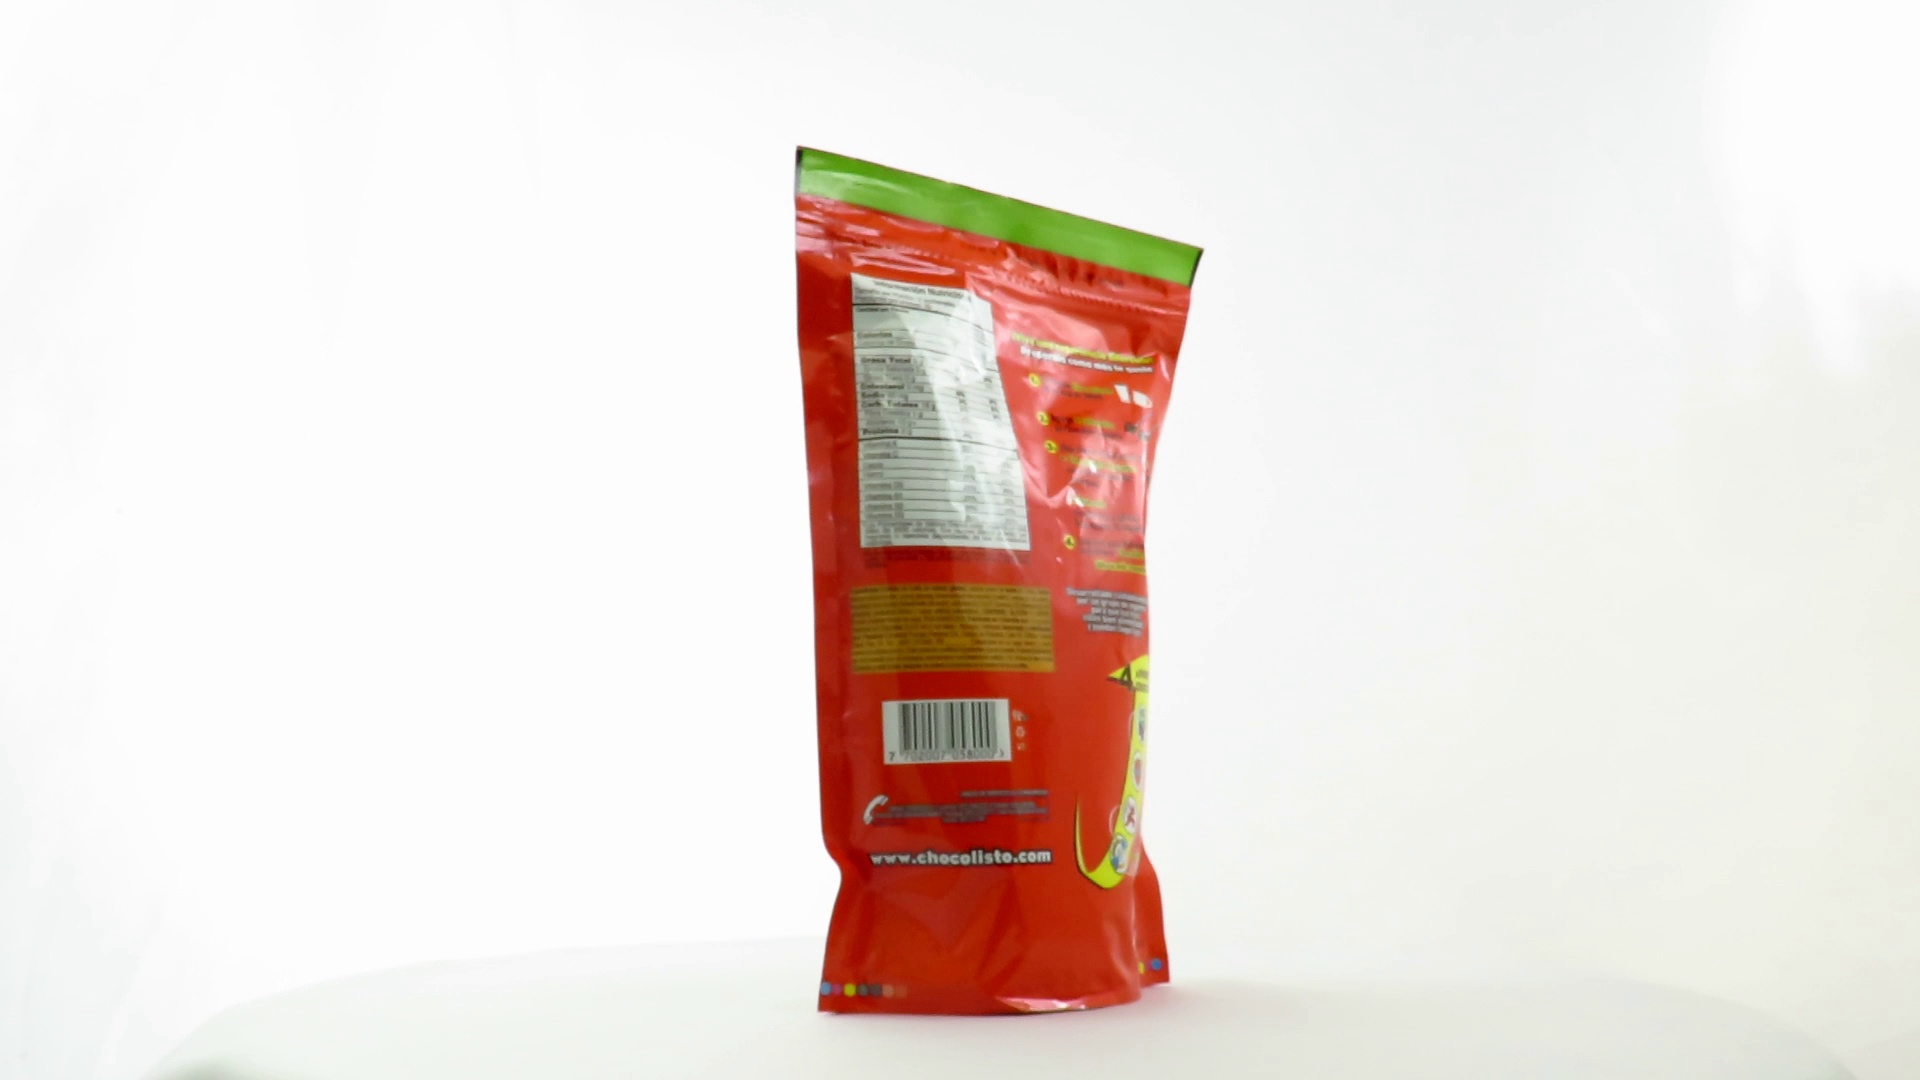COL0170102DYP50000: (789, 140, 1211, 1023)
